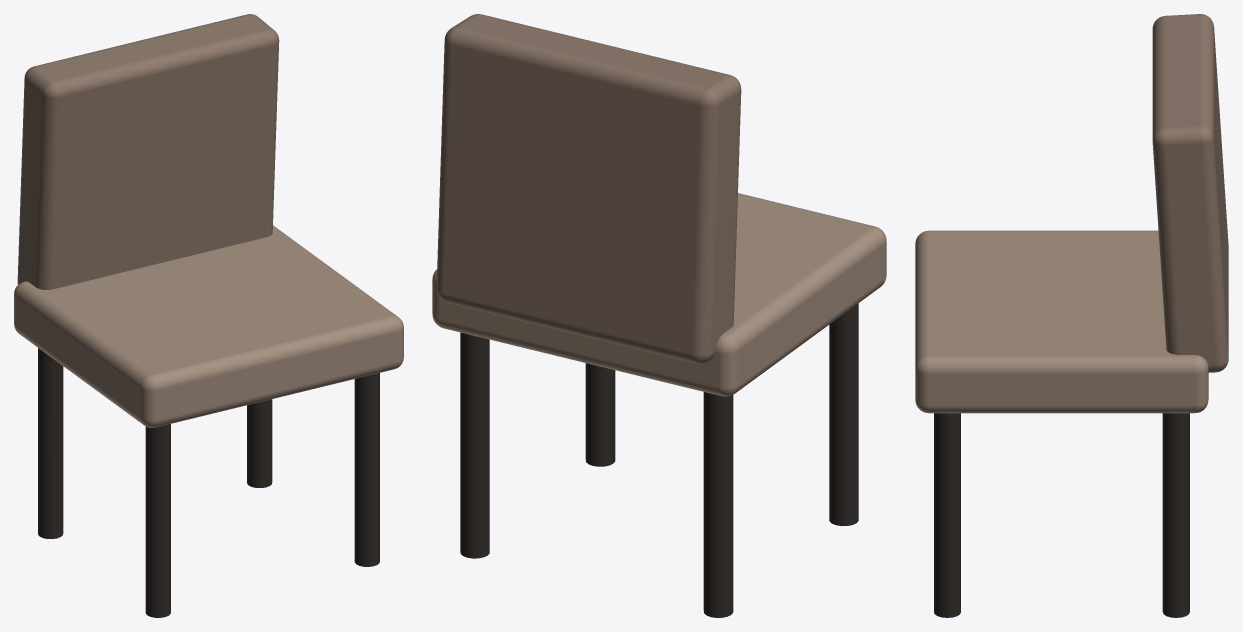
Rendered from tario.glb.
3 views of the same model, side by side, from view 1: azimuth 30°, elevation 25°; view 2: azimuth 150°, elevation 25°; view 3: azimuth 270°, elevation 25° (orthographic). The views are drawn at different scales.
Parts seen in each view (by area): view 1: back, seat, leg-3, leg-4, leg-1, leg-2; view 2: back, seat, leg-1, leg-2, leg-3, leg-4; view 3: seat, back, leg-2, leg-4.
Boxes of the visible parts, bbox=[...] form: back: bbox=[17, 14, 279, 289]; seat: bbox=[14, 225, 403, 427]; leg-3: bbox=[145, 424, 170, 617]; leg-4: bbox=[354, 373, 379, 566]; leg-1: bbox=[38, 348, 63, 538]; leg-2: bbox=[247, 399, 272, 487]; back: bbox=[436, 14, 741, 363]; seat: bbox=[432, 193, 886, 396]; leg-1: bbox=[703, 392, 733, 617]; leg-2: bbox=[460, 332, 489, 558]; leg-3: bbox=[829, 303, 858, 526]; leg-4: bbox=[585, 363, 615, 466]; seat: bbox=[915, 230, 1208, 413]; back: bbox=[1152, 14, 1228, 372]; leg-2: bbox=[1162, 413, 1189, 617]; leg-4: bbox=[934, 413, 960, 617].
Size of the model in its own units: 0.52 by 0.8725 by 0.5084.
